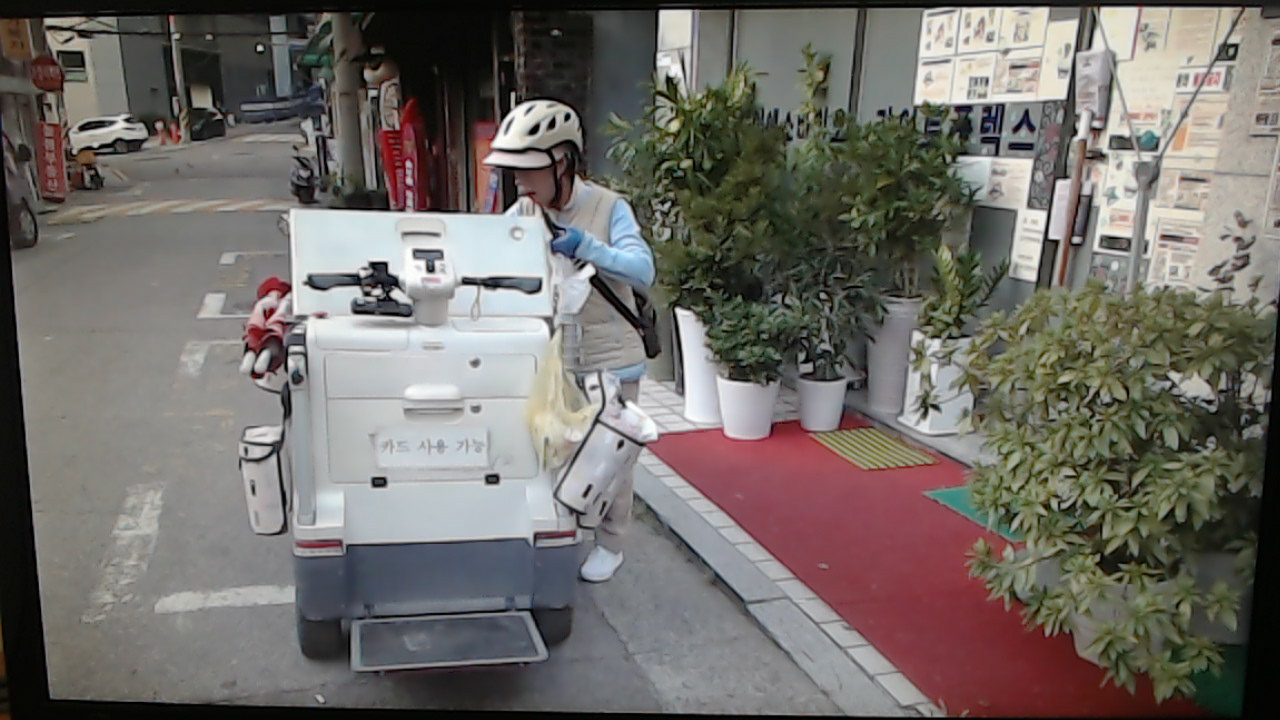Yakurut: (447, 84, 692, 602)
